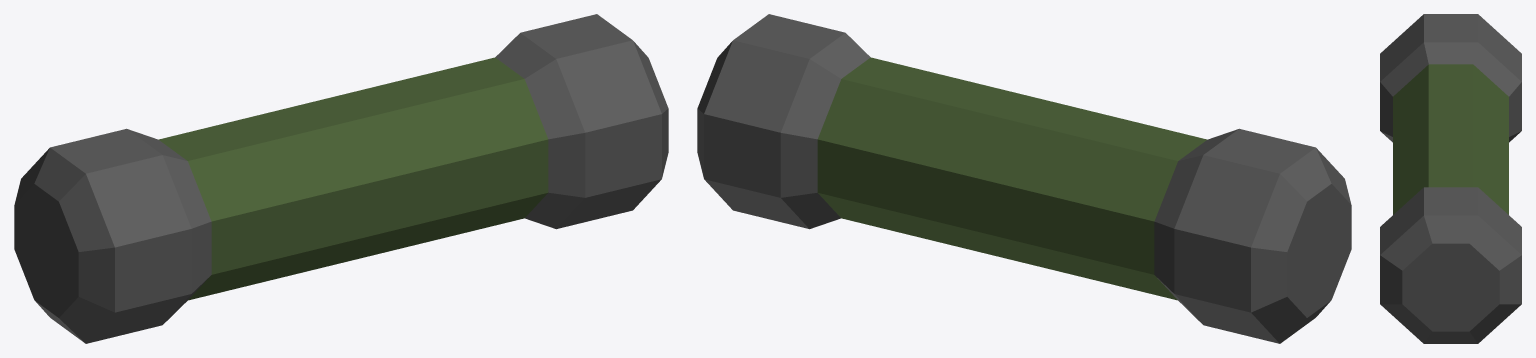
Rendered from part3_fuel.fbx.
The picture shows the model from 3 angles, left to right: view 1: azimuth 30°, elevation 25°; view 2: azimuth 150°, elevation 25°; view 3: azimuth 270°, elevation 25°; orthographic projection. The views are drawn at different scales.
Parts seen in each view (by area): view 1: Cube.003; view 2: Cube.003; view 3: Cube.003.
Boxes of the visible parts, x1,y1,x2,y2 form: Cube.003: [14, 14, 668, 343]; Cube.003: [697, 14, 1351, 343]; Cube.003: [1380, 14, 1521, 343].
Bounding box in the file's own units: 91.24 × 25.17 × 25.17.
